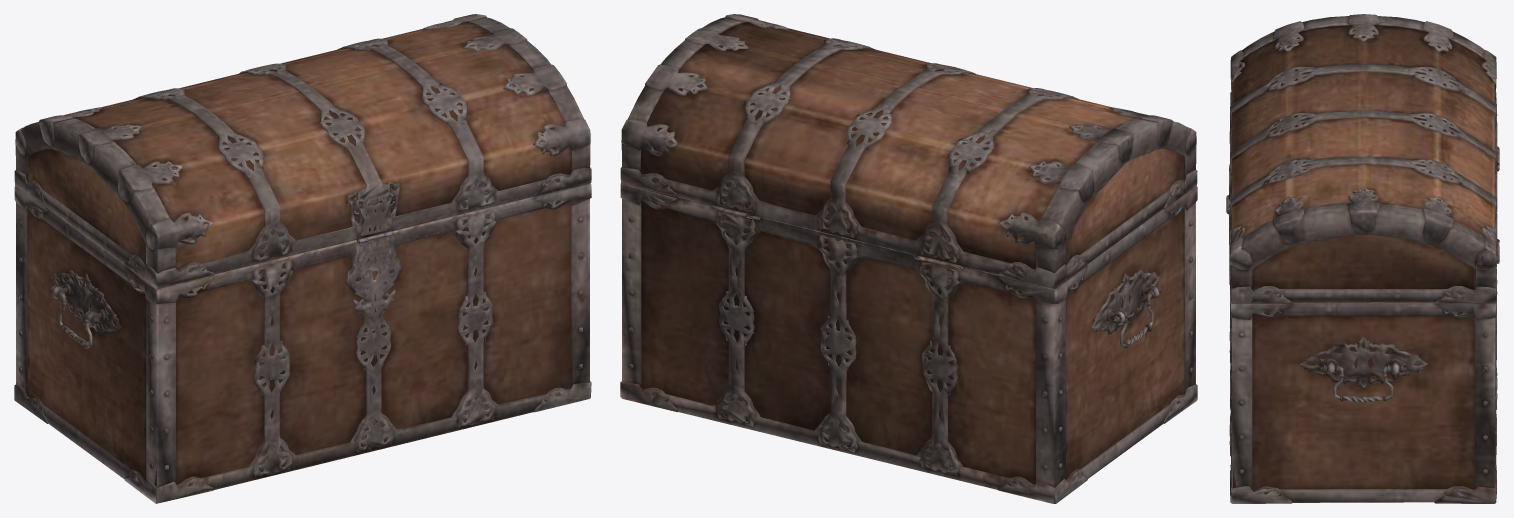
File: treasure_chest.glb
3 renders of one model, left to right at view 1: azimuth 30°, elevation 25°; view 2: azimuth 150°, elevation 25°; view 3: azimuth 270°, elevation 25°, orthographic. The views are drawn at different scales.
Visible parts, largest first — view 1: treasure_chest_bottom, treasure_chest_lid, treasure_chest_lock, treasure_chest_handle_left; view 2: treasure_chest_bottom, treasure_chest_lid, treasure_chest_handle_left; view 3: treasure_chest_lid, treasure_chest_bottom, treasure_chest_handle_right.
Part boxes in pixels (x1,y1,x2,y2): treasure_chest_bottom: (14, 183, 591, 503); treasure_chest_lid: (14, 14, 591, 288); treasure_chest_lock: (349, 233, 399, 322); treasure_chest_handle_left: (50, 285, 99, 348); treasure_chest_bottom: (620, 183, 1197, 503); treasure_chest_lid: (620, 14, 1197, 288); treasure_chest_handle_left: (1112, 285, 1161, 348); treasure_chest_lid: (1226, 14, 1499, 303); treasure_chest_bottom: (1229, 134, 1499, 503); treasure_chest_handle_right: (1320, 365, 1406, 402).
Bounding box in the file's own units: 0.959 × 0.6182 × 0.5223.
Materials: 1 (1 with a texture image).
